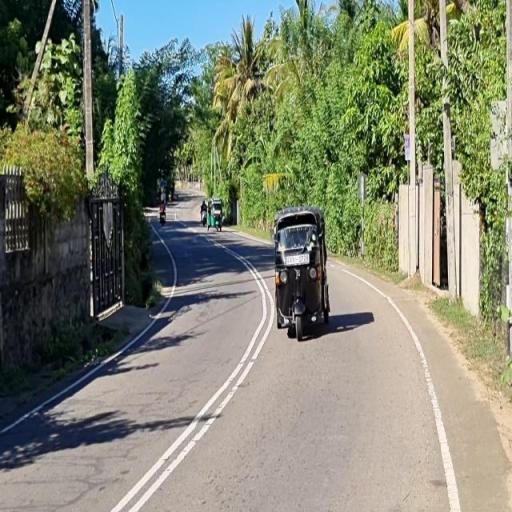double_white_line: (110, 275, 273, 512)
